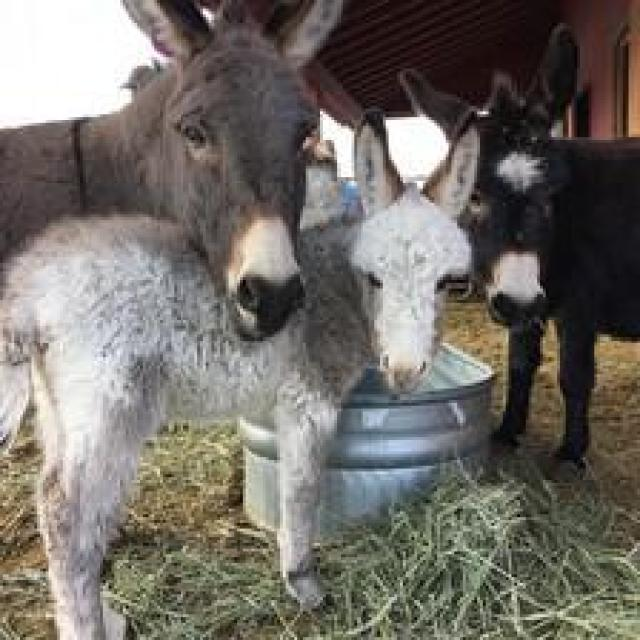Donkey: (0, 0, 349, 637), (397, 20, 637, 491)
